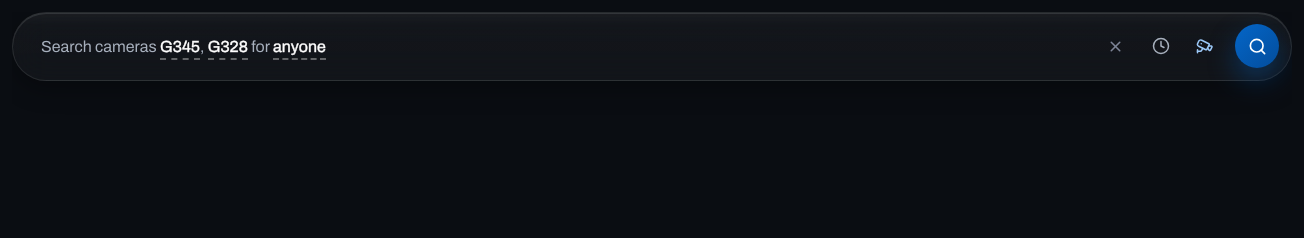
Test: QueryField › underlines camera codes typed in the query and swaps them for an indexed camera
The width and height of the screenshot is (1304, 238).
Click the text "G345" at (180, 49), box [160, 38, 200, 60]
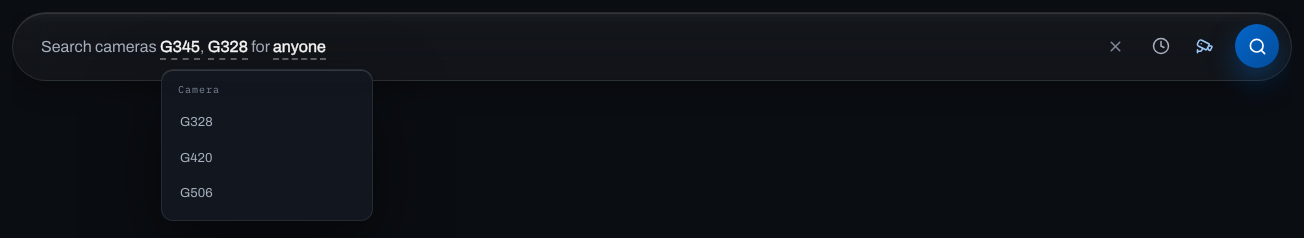
Check: the text "Camera" is shown, box [178, 83, 220, 96]
Click the button "G506" at (267, 194), box [170, 176, 364, 212]
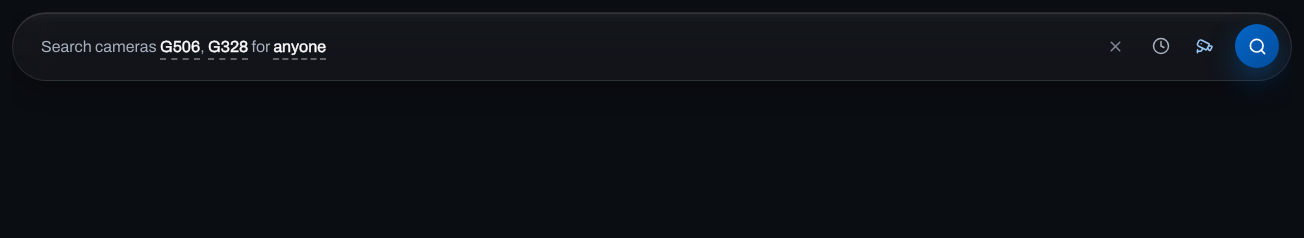
Check: the element showing "Search cameras G506, G328 for anyone" is shown, box [41, 38, 326, 60]
